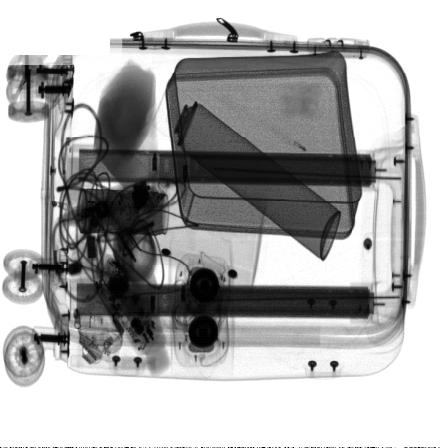Sprayer: (152, 83, 340, 261)
